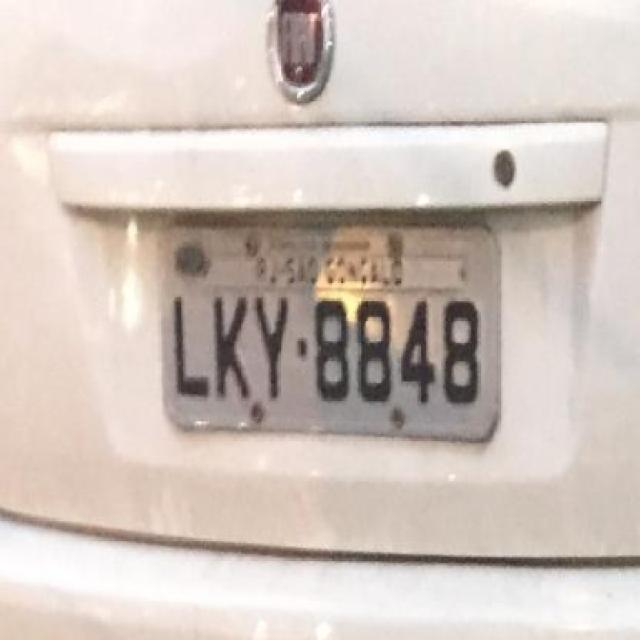old_plate: (149, 210, 511, 449)
